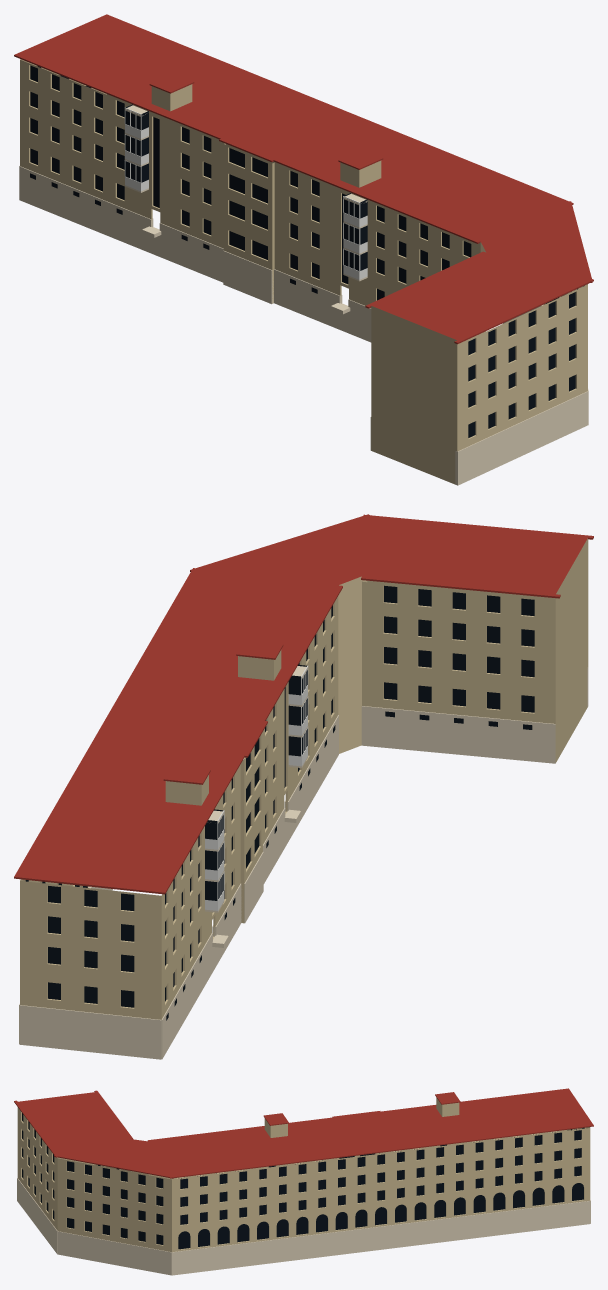
The picture shows the model from 3 angles, top to bottom: view 1: azimuth 30°, elevation 25°; view 2: azimuth 150°, elevation 25°; view 3: azimuth 270°, elevation 25°; orthographic projection. The views are drawn at different scales.
Parts seen in each view (by area): view 1: bm52_wall, bm52_roof, bm52_stone, bm52_glass, bm52_wall2; view 2: bm52_roof, bm52_wall, bm52_stone, bm52_glass, bm52_wall2; view 3: bm52_wall, bm52_roof, bm52_stone, bm52_glass.
Boxes of the visible parts, x1=… form: bm52_wall: x1=20, y1=59, x2=587, y2=484; bm52_roof: x1=14, y1=14, x2=593, y2=344; bm52_stone: x1=19, y1=105, x2=588, y2=485; bm52_glass: x1=30, y1=65, x2=584, y2=437; bm52_wall2: x1=124, y1=107, x2=367, y2=279; bm52_roof: x1=14, y1=514, x2=593, y2=894; bm52_wall: x1=20, y1=538, x2=588, y2=1019; bm52_stone: x1=19, y1=666, x2=588, y2=1059; bm52_glass: x1=25, y1=585, x2=534, y2=1020; bm52_wall2: x1=205, y1=665, x2=308, y2=910; bm52_wall: x1=17, y1=1097, x2=590, y2=1252; bm52_roof: x1=14, y1=1088, x2=593, y2=1178; bm52_stone: x1=17, y1=1178, x2=590, y2=1275; bm52_glass: x1=22, y1=1113, x2=584, y2=1249.
Bounding box in the file's own units: 33.15 × 19.5 × 90.92.
